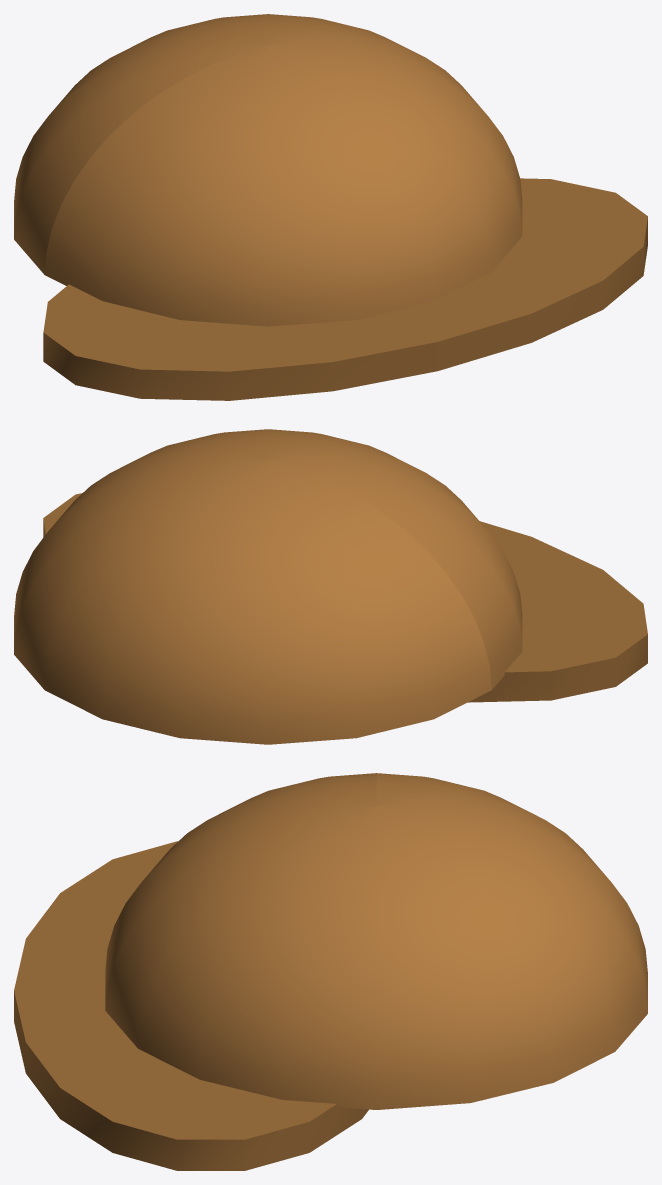
File: tourcap.glb
The picture shows the model from 3 angles, top to bottom: view 1: azimuth 30°, elevation 25°; view 2: azimuth 150°, elevation 25°; view 3: azimuth 270°, elevation 25°; orthographic projection. The views are drawn at different scales.
Parts seen in each view (by area): view 1: tourcap; view 2: tourcap; view 3: tourcap.
Boxes of the visible parts, box(x1,y1,x2,y2) form: tourcap: box(14, 14, 647, 400); tourcap: box(14, 429, 647, 744); tourcap: box(14, 773, 647, 1170).
Bounding box in the file's own units: 0.5121 × 0.1725 × 0.46.
